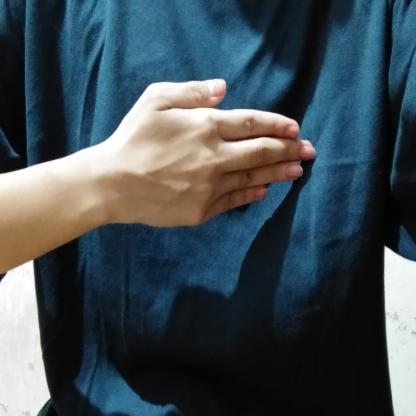ready: (102, 73, 322, 234)
